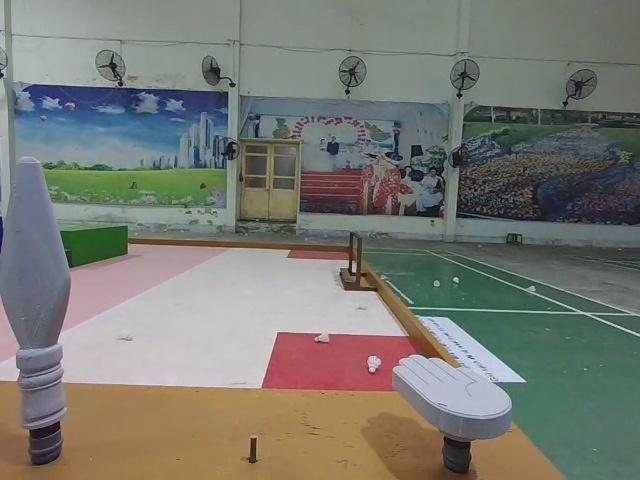Hand: (401, 353, 516, 480)
Sph: (1, 155, 66, 465)
